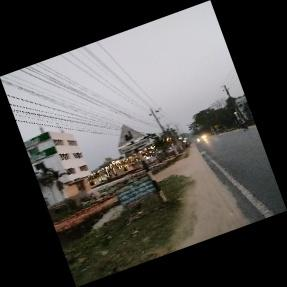Mosque in front: (116, 122, 153, 157)
